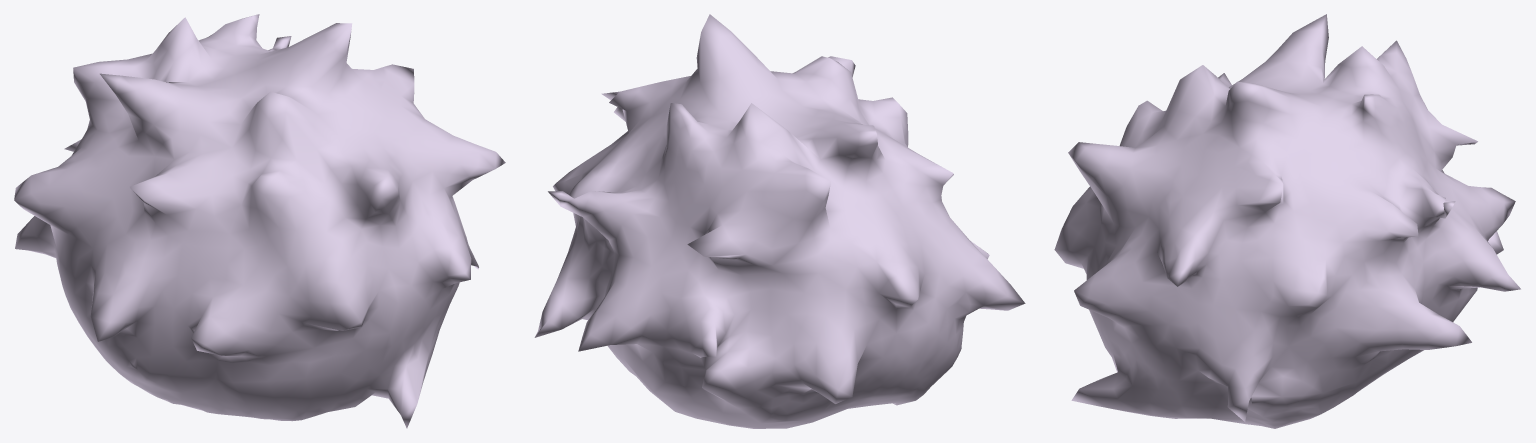
The model's file is rockplant.fbx.
3 renders of one model, left to right at view 1: azimuth 30°, elevation 25°; view 2: azimuth 150°, elevation 25°; view 3: azimuth 270°, elevation 25°, orthographic. The views are drawn at different scales.
Visible parts, largest first — view 1: Sphere; view 2: Sphere; view 3: Sphere.
Boxes of the visible parts, x1,y1,x2,y2 form: Sphere: [14, 14, 505, 428]; Sphere: [534, 14, 1025, 428]; Sphere: [1054, 14, 1520, 428].
Bounding box in the file's own units: 225 × 188 × 224.
